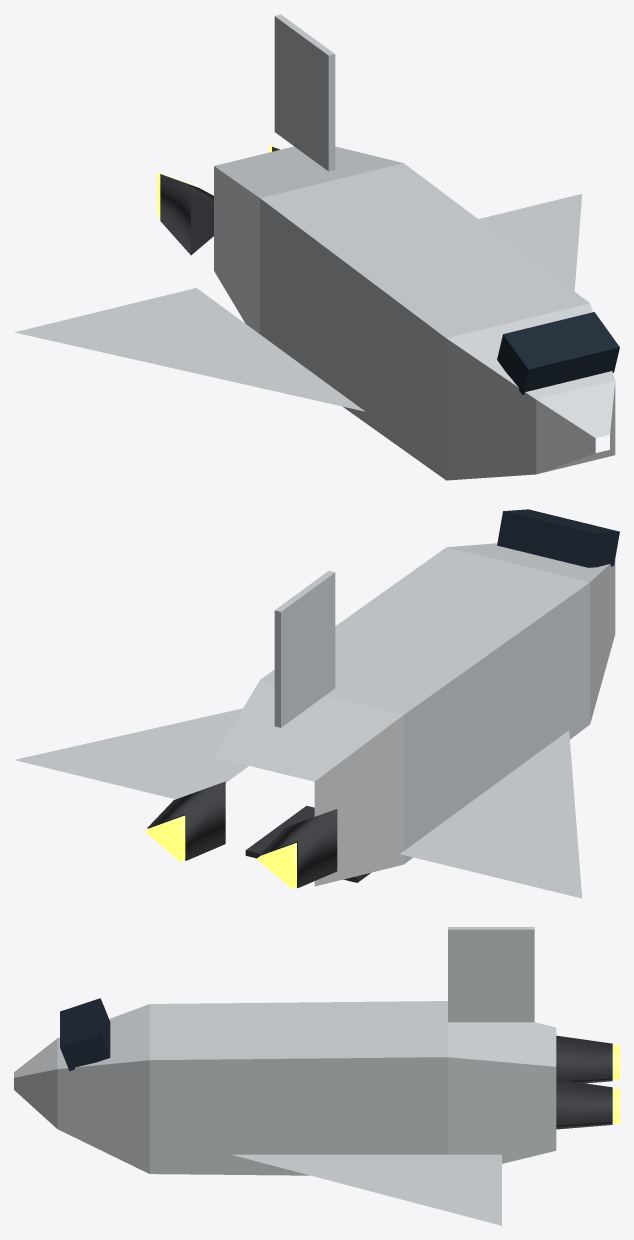
The model's file is space_ship_shuttle_mk1_lod2.glb.
3 renders of one model, top to bottom at view 1: azimuth 30°, elevation 25°; view 2: azimuth 150°, elevation 25°; view 3: azimuth 270°, elevation 25°, orthographic. The views are drawn at different scales.
Parts seen in each view (by area): view 1: body, engine_1; view 2: body, engine_1, engine_0, ramp; view 3: body, engine_0, engine_1.
Boxes of the visible parts, bbox=[...] form: body: bbox=[14, 14, 619, 480]; engine_1: bbox=[156, 172, 213, 255]; body: bbox=[15, 509, 619, 898]; engine_1: bbox=[256, 809, 337, 889]; engine_0: bbox=[144, 781, 225, 862]; ramp: bbox=[245, 805, 370, 882]; body: bbox=[14, 927, 556, 1225]; engine_0: bbox=[556, 1079, 619, 1129]; engine_1: bbox=[556, 1035, 619, 1083].
Bounding box in the file's own units: 8.72 × 4.04 × 10.06.
